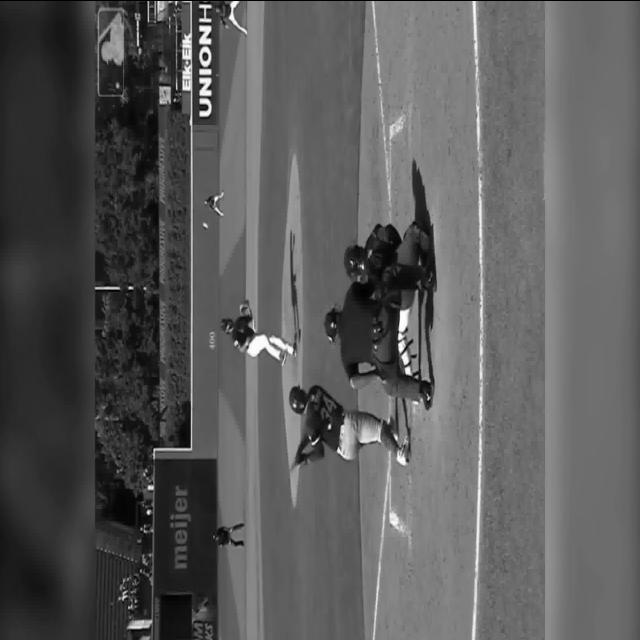baseball: (202, 221, 208, 229)
baseball_glove: (239, 303, 248, 315)
shoe: (410, 222, 430, 250), (418, 266, 436, 292), (396, 433, 410, 465), (420, 380, 434, 410), (388, 415, 398, 439), (280, 350, 288, 366), (292, 342, 297, 357)
